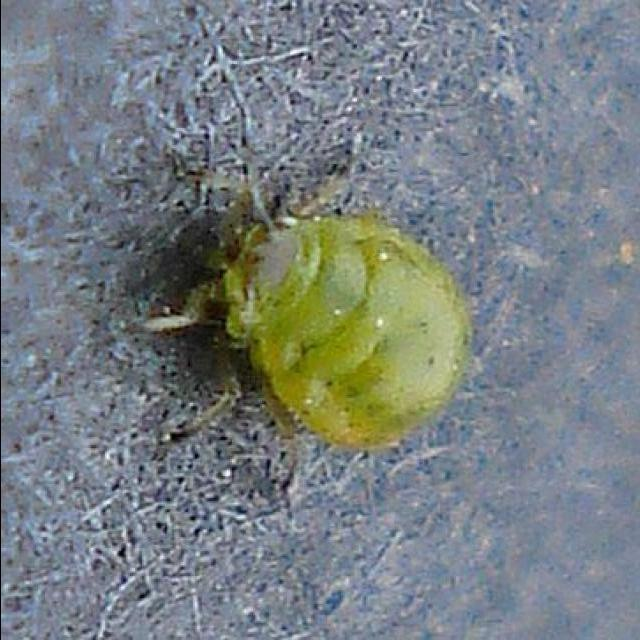aphid: (182, 182, 482, 466)
